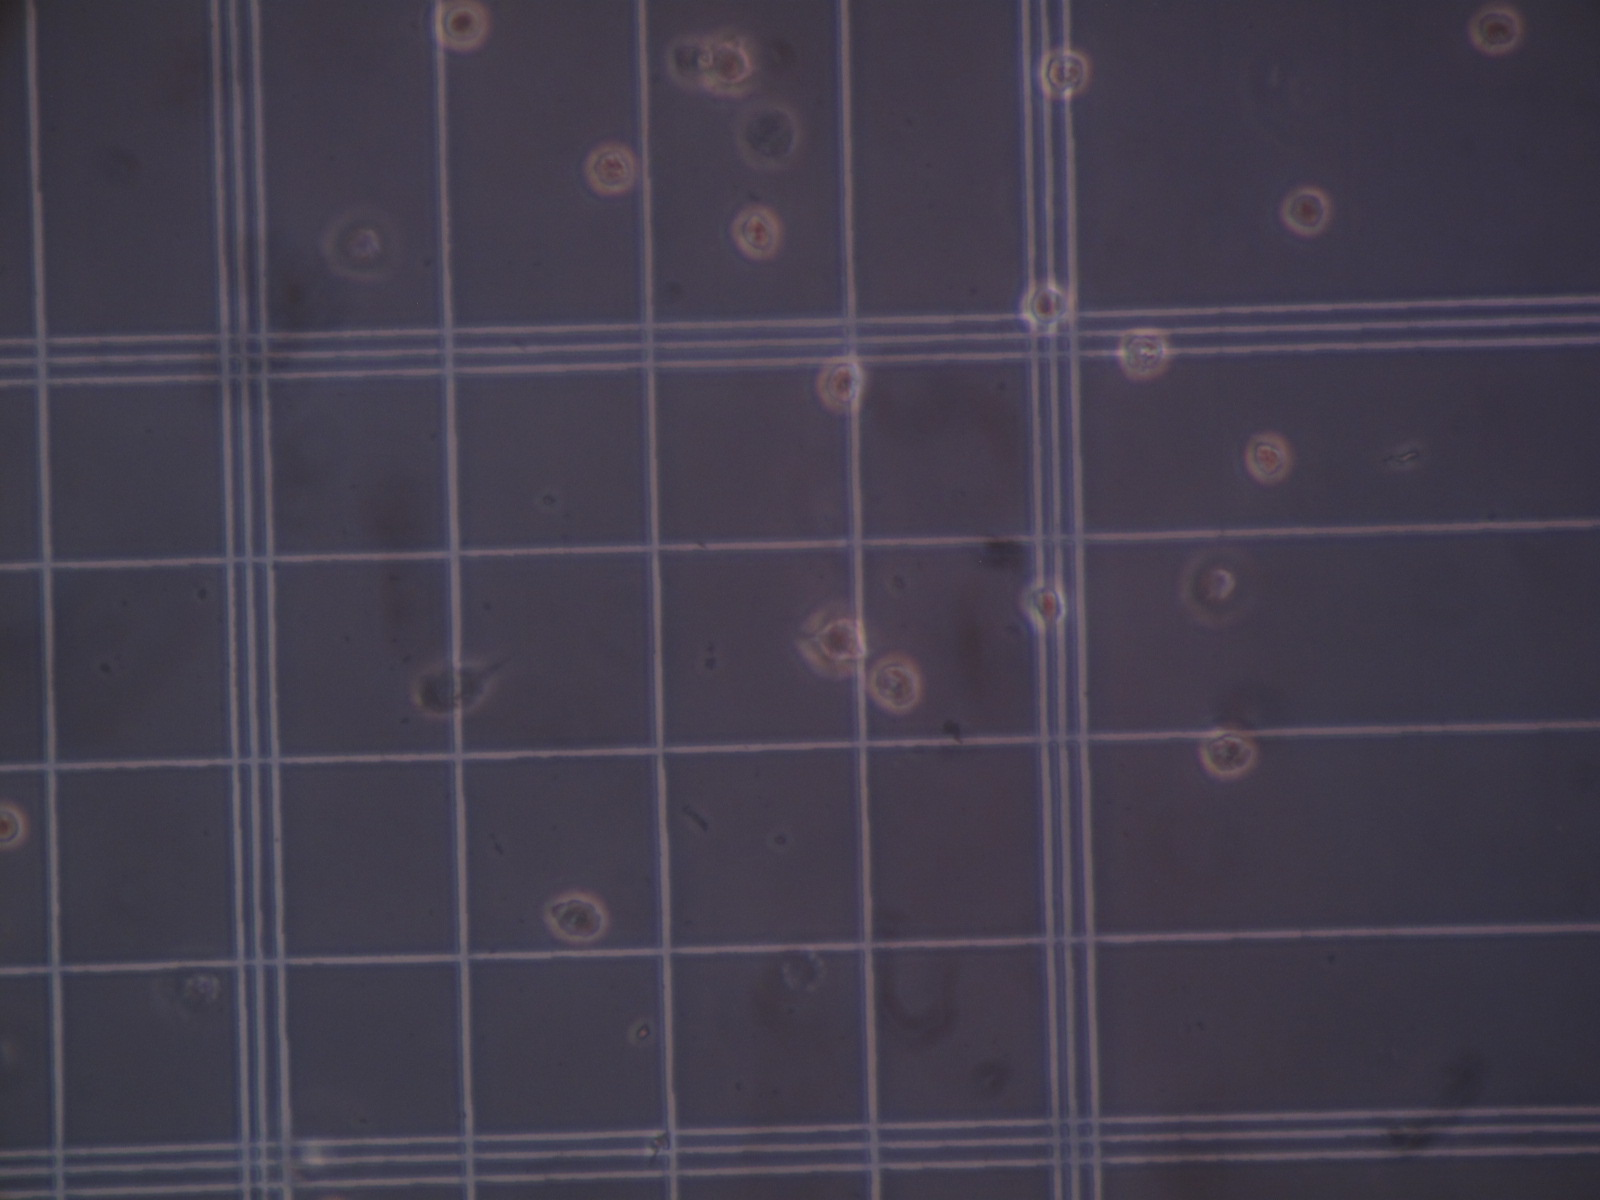hemo: (320, 207, 401, 282), (409, 655, 496, 720), (795, 603, 868, 678), (1178, 551, 1242, 628), (734, 100, 803, 171), (700, 38, 757, 98), (544, 891, 609, 944), (868, 653, 922, 713), (1199, 727, 1259, 779), (729, 204, 782, 260), (583, 142, 637, 195), (1116, 326, 1170, 379), (815, 357, 866, 413), (1468, 5, 1523, 55), (1038, 47, 1090, 100), (433, 1, 489, 50), (665, 35, 714, 89), (1019, 282, 1072, 332), (1019, 579, 1068, 630), (1281, 187, 1330, 237), (1245, 432, 1291, 484), (1, 800, 26, 850)
